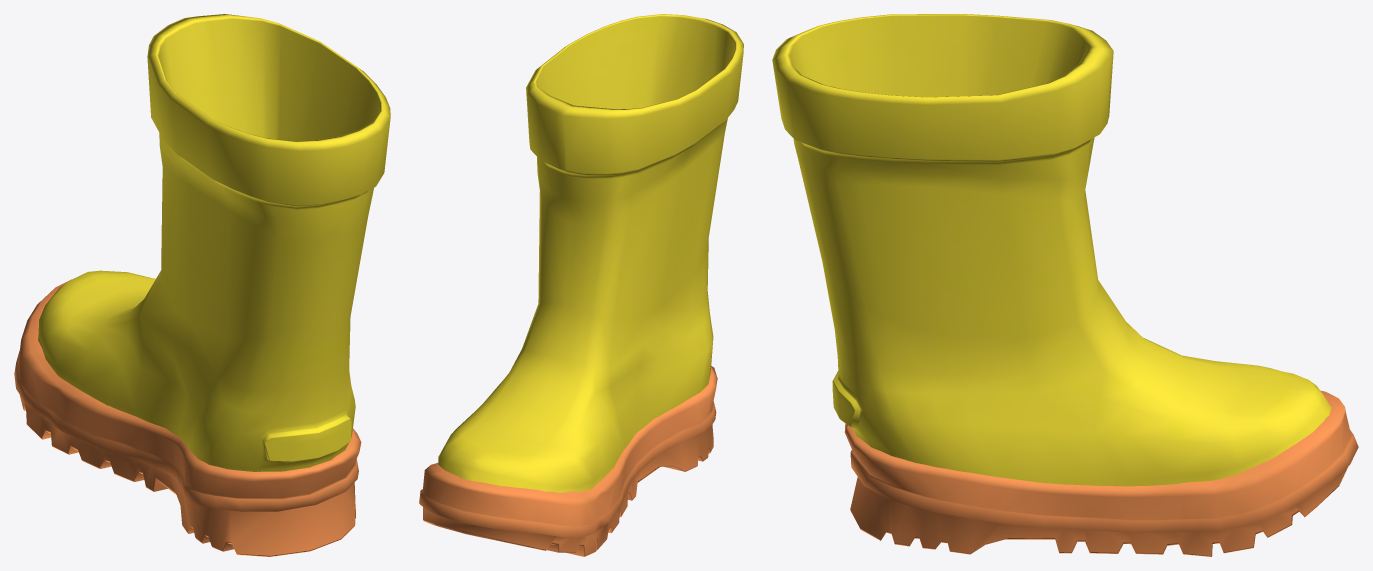
Rendered from BootRight.fbx.
3 views of the same model, side by side, from view 1: azimuth 30°, elevation 25°; view 2: azimuth 150°, elevation 25°; view 3: azimuth 270°, elevation 25° (orthographic). The views are drawn at different scales.
Parts seen in each view (by area): view 1: Cube.012; view 2: Cube.012; view 3: Cube.012.
Part boxes in pixels (x1,y1,x2,y2): Cube.012: (14, 14, 390, 556); Cube.012: (419, 14, 743, 556); Cube.012: (772, 14, 1358, 556).
Bounding box in the file's own units: 272 × 625 × 712.
